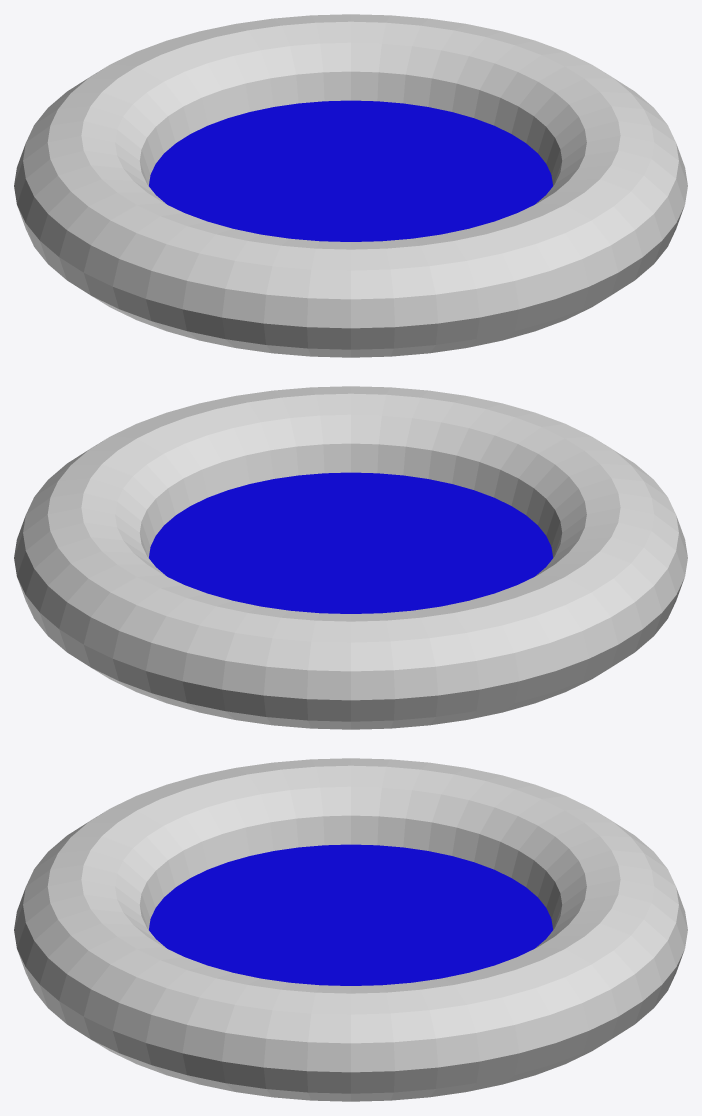
File: BlueGunPlatform.fbx
3 views of the same model, one above another, from view 1: azimuth 30°, elevation 25°; view 2: azimuth 150°, elevation 25°; view 3: azimuth 270°, elevation 25° (orthographic).
Parts seen in each view (by area): view 1: Torus, Plane; view 2: Torus, Plane; view 3: Torus, Plane.
Part boxes in pixels (box(x1,y1,x2,y2)): Torus: box(14, 14, 687, 357); Plane: box(149, 100, 552, 241); Torus: box(14, 386, 687, 729); Plane: box(149, 472, 552, 613); Torus: box(14, 758, 687, 1101); Plane: box(149, 844, 552, 985).
Bounding box in the file's own units: 250 × 41.18 × 250.
